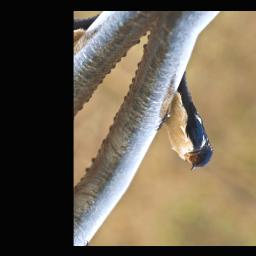Swallow: (142, 71, 243, 178)
